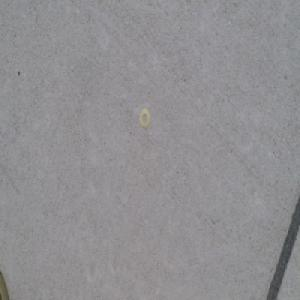Washer: (138, 108, 150, 129)
